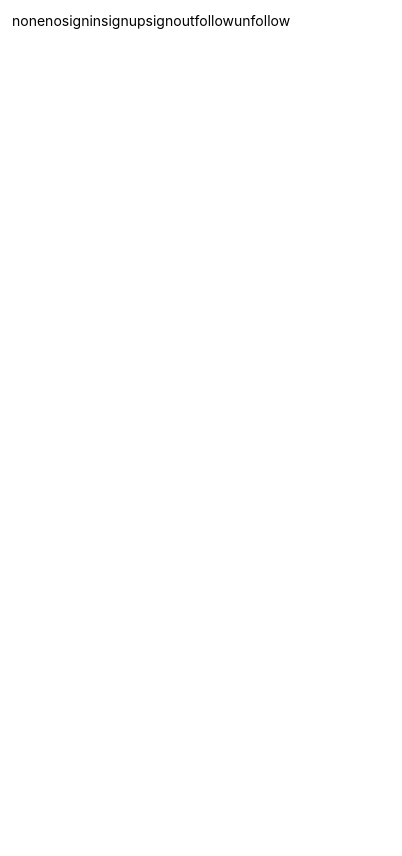
Scenario: AuthProvider › signUp cadastra, loga e hidrata
Expected: the text "none" is shown, [12,12,45,29]
Click the button labelled "signup" at (123, 434), box [101,12,146,855]
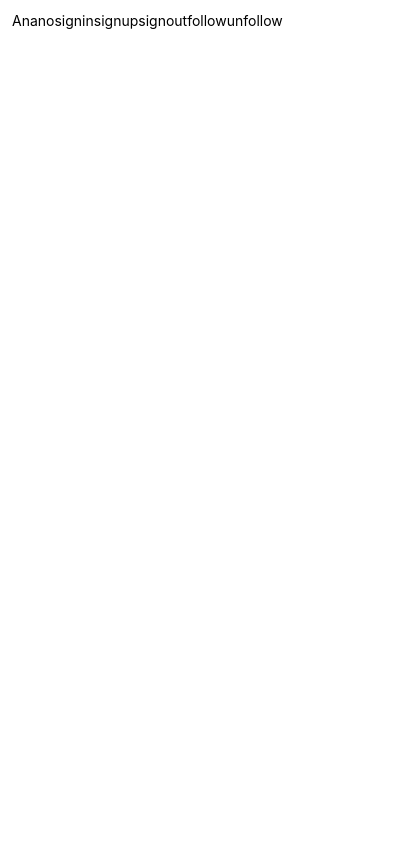
Expected: the text with test id "user" reads "Ana", [12,12,38,29]
